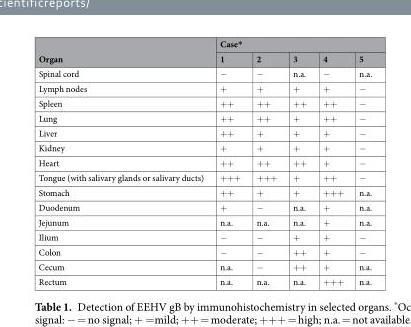table: (37, 36, 371, 287)
table column: (37, 36, 211, 287), (247, 36, 284, 287), (211, 36, 247, 287), (314, 36, 350, 287), (284, 36, 314, 287), (350, 36, 371, 287)
table column header: (37, 36, 371, 65)
table row: (37, 36, 371, 51), (37, 65, 371, 80), (37, 80, 371, 95), (37, 95, 371, 110), (37, 110, 371, 125), (37, 125, 371, 140), (37, 154, 371, 169), (37, 169, 371, 184), (37, 184, 371, 199), (37, 199, 371, 214), (37, 214, 371, 229), (37, 229, 371, 244), (37, 244, 371, 259), (37, 51, 371, 65), (37, 140, 371, 154), (37, 259, 371, 273), (37, 273, 371, 287)
table spanning cell: (37, 36, 211, 65), (211, 36, 371, 51)
